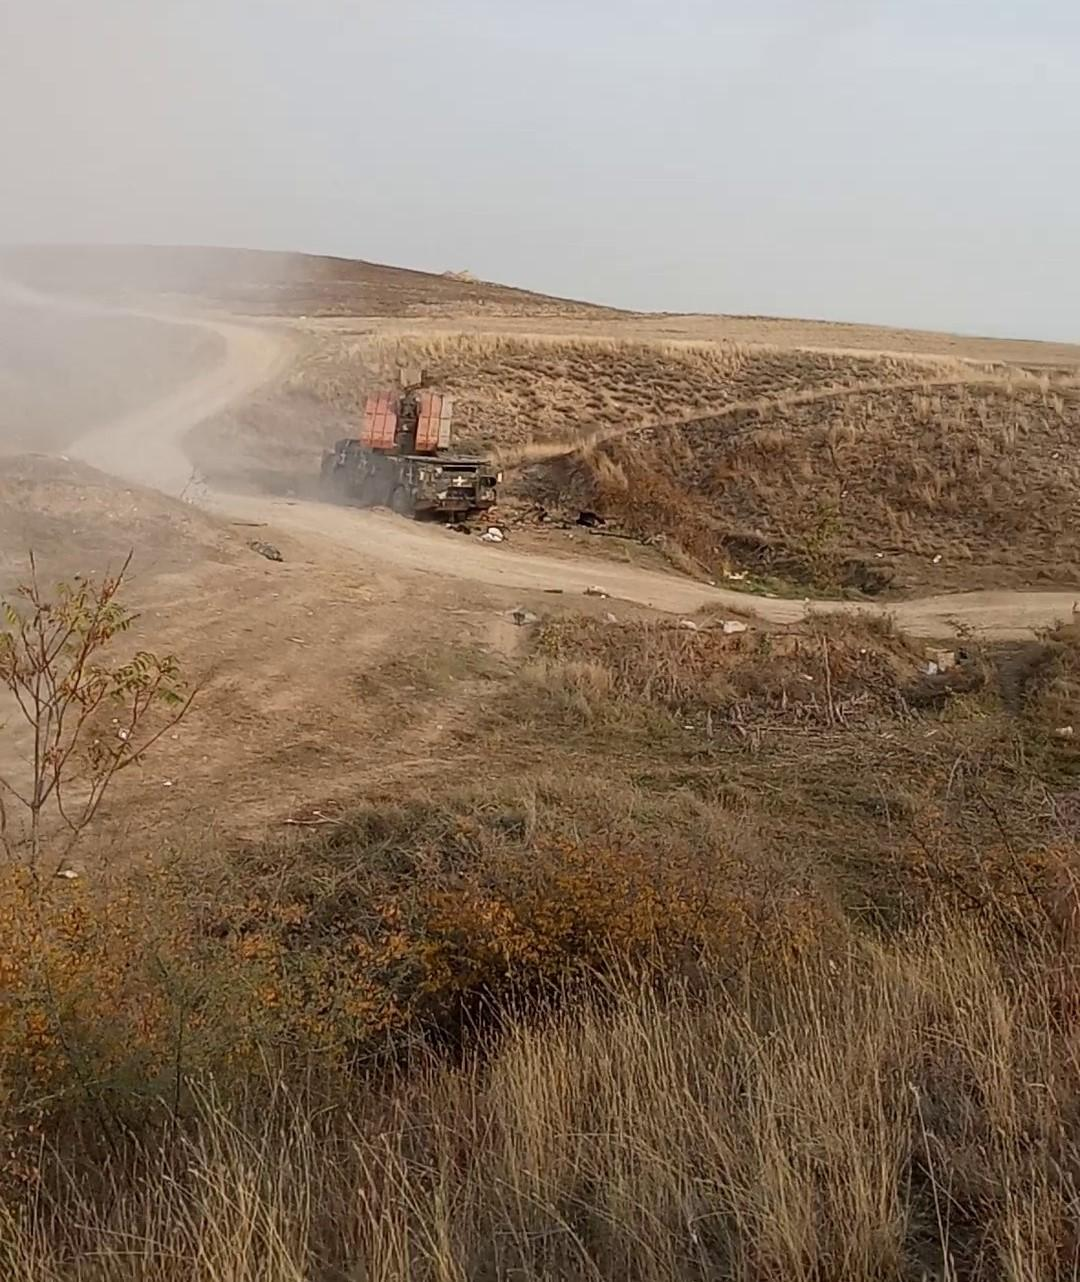MIL_SAM_TEL: (318, 358, 504, 527)
